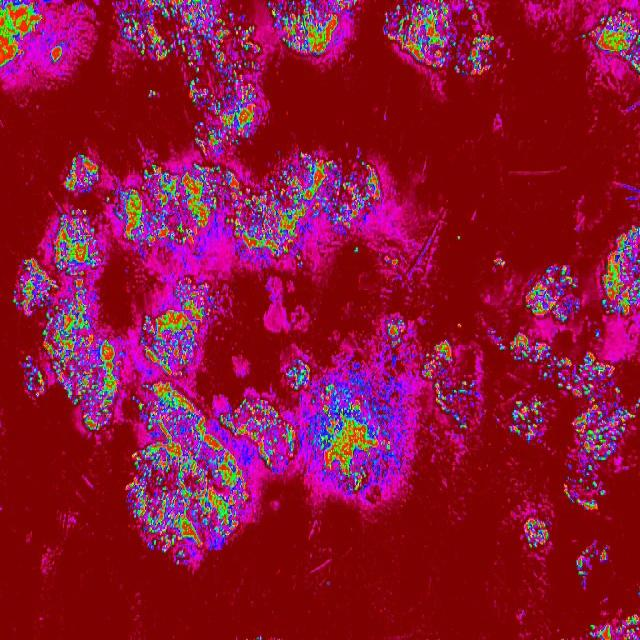fire: (12, 198, 122, 436), (248, 358, 410, 512), (124, 379, 248, 573), (232, 153, 382, 254), (559, 348, 640, 512), (119, 160, 232, 250), (114, 0, 260, 64), (136, 276, 222, 378), (383, 0, 495, 78), (188, 64, 266, 156), (418, 341, 482, 434), (266, 0, 358, 56), (581, 8, 640, 74), (603, 226, 640, 319), (527, 264, 584, 324), (0, 0, 46, 71), (504, 329, 556, 380), (505, 395, 549, 444), (574, 538, 610, 588), (62, 152, 100, 196), (586, 612, 640, 640), (382, 316, 412, 352), (520, 515, 548, 549), (487, 328, 501, 353), (47, 44, 64, 64), (490, 254, 506, 270), (384, 256, 400, 270), (249, 632, 273, 640), (295, 256, 308, 266), (146, 87, 156, 99), (456, 233, 462, 243)
